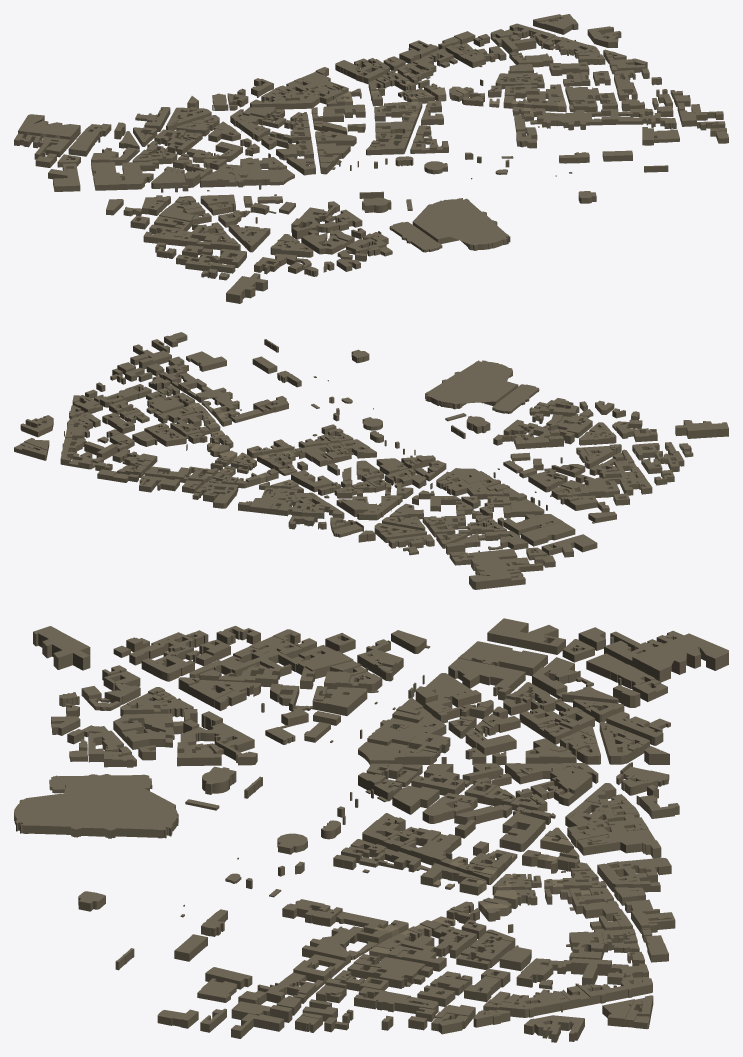
The model's file is City.fbx.
The picture shows the model from 3 angles, top to bottom: view 1: azimuth 30°, elevation 25°; view 2: azimuth 150°, elevation 25°; view 3: azimuth 270°, elevation 25°; orthographic projection. The views are drawn at different scales.
Visible parts, largest first — view 1: Areas:building.001; view 2: Areas:building.001; view 3: Areas:building.001.
Boxes of the visible parts, x1=… form: Areas:building.001: x1=14, y1=14, x2=728, y2=303; Areas:building.001: x1=14, y1=332, x2=728, y2=589; Areas:building.001: x1=14, y1=618, x2=728, y2=1042.
Size of the model in its own units: 54527 by 925 by 39581.
